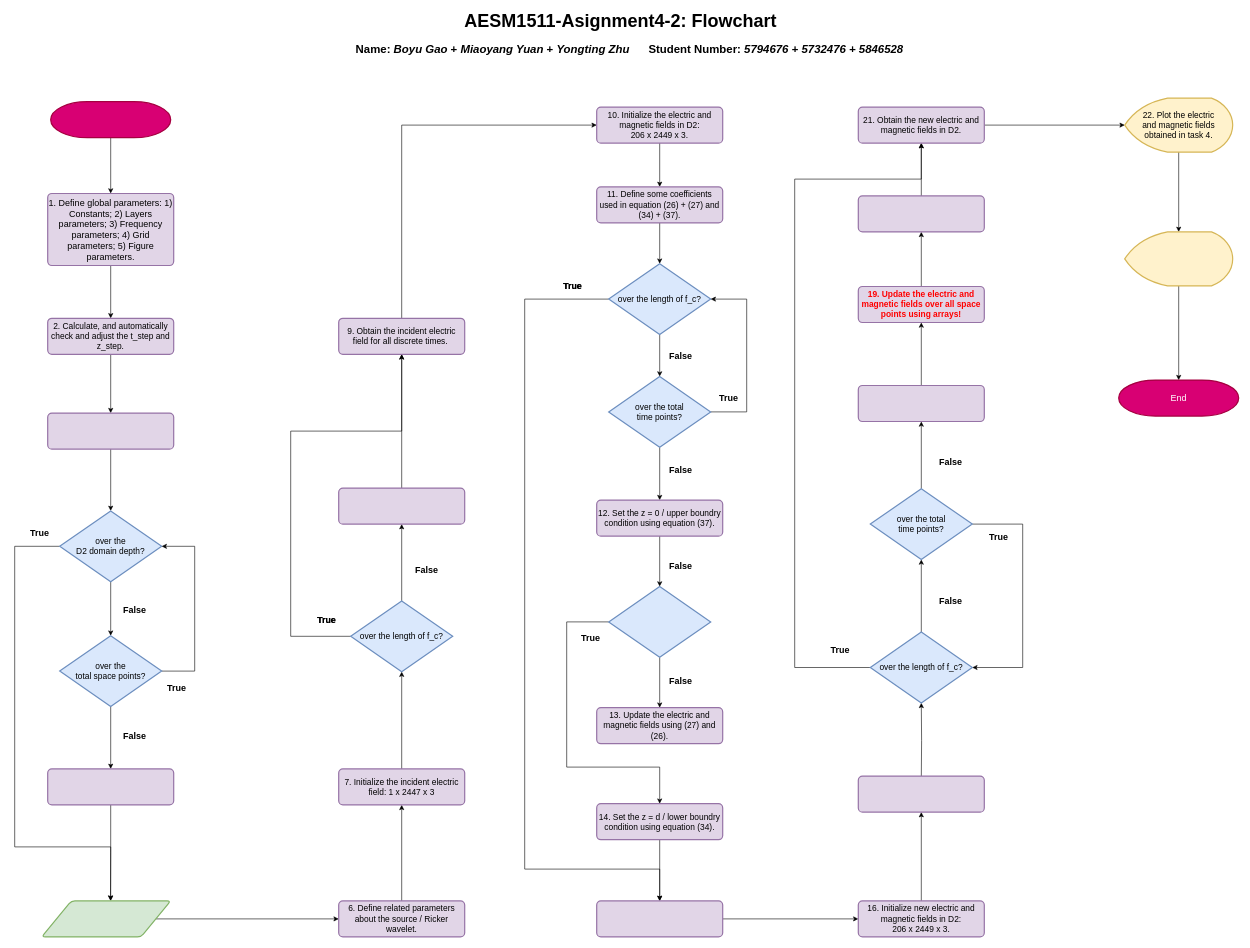
The diagram is 1250 pixels wide and 948 high, and some of its shapes have lost their labels. Here are the shapes that lost their labels. From the top down, the centre of each, then its label:
the point at 110,119: Start
the point at 921,213: 20. Set the z = d / lower boundry condition using equation (34).
the point at 1178,258: 23. Plot the electric and magnetic fields obtained in task 5.
the point at 921,403: 18. Set the z = 0 / upper boundry condition using equation (37).
the point at 110,430: 3. Define the discrete parameters (e, rho, mu) models.
the point at 401,505: 8. Update the incident electric field using equation (38) and (39).
the point at 659,622: over the total space points - 1 ?
the point at 110,786: 4. Update the discrete parameters (e, rho, mu) models.
the point at 921,793: 17. Define some coefficients used in equation (26) + (27) and (34) + (37).
the point at 106,918: 5. Print model related important parameters.
the point at 659,918: 15. Obtain the electric and magnetic fields in D2.
